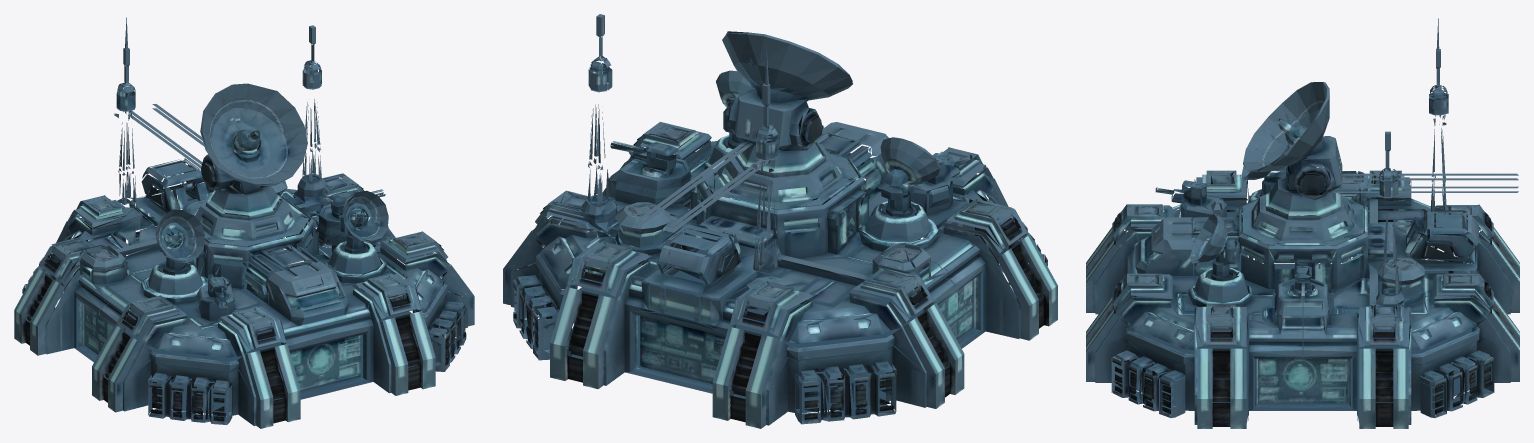
File: orbital_station_LOD1.glb
3 renders of one model, left to right at view 1: azimuth 30°, elevation 25°; view 2: azimuth 150°, elevation 25°; view 3: azimuth 270°, elevation 25°, orthographic. The views are drawn at different scales.
Parts seen in each view (by area): view 1: orbital_station_LOD1; view 2: orbital_station_LOD1; view 3: orbital_station_LOD1.
Part boxes in pixels (x1,y1,x2,y2): orbital_station_LOD1: (14, 17, 474, 428); orbital_station_LOD1: (503, 14, 1057, 428); orbital_station_LOD1: (1086, 18, 1519, 428).
Size of the model in its own units: 0.9993 by 0.7607 by 0.9993.
1 material, 1 textured.
